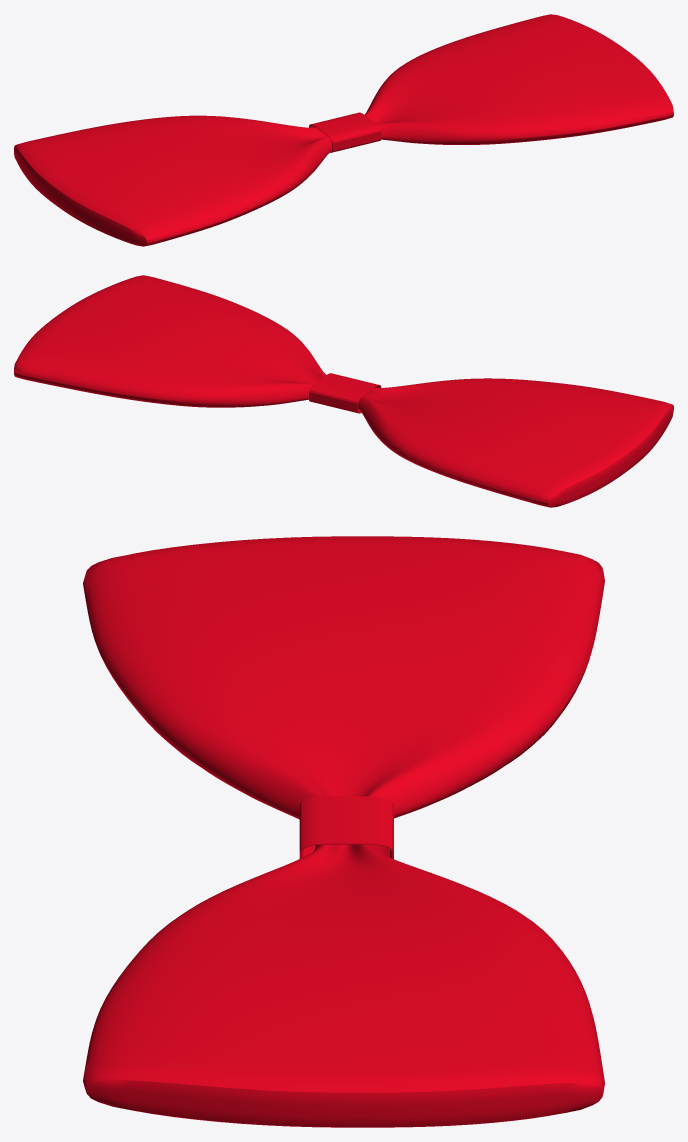
Rendered from shanghai_bow.glb.
3 views of the same model, one above another, from view 1: azimuth 30°, elevation 25°; view 2: azimuth 150°, elevation 25°; view 3: azimuth 270°, elevation 25° (orthographic). The views are drawn at different scales.
Visible parts, largest first — view 1: HairBow; view 2: HairBow; view 3: HairBow.
Part boxes in pixels (x1,y1,x2,y2): HairBow: [14, 14, 673, 246]; HairBow: [14, 275, 673, 507]; HairBow: [83, 536, 604, 1127].
Size of the model in its own units: 1.79 by 0.0834 by 0.71.
